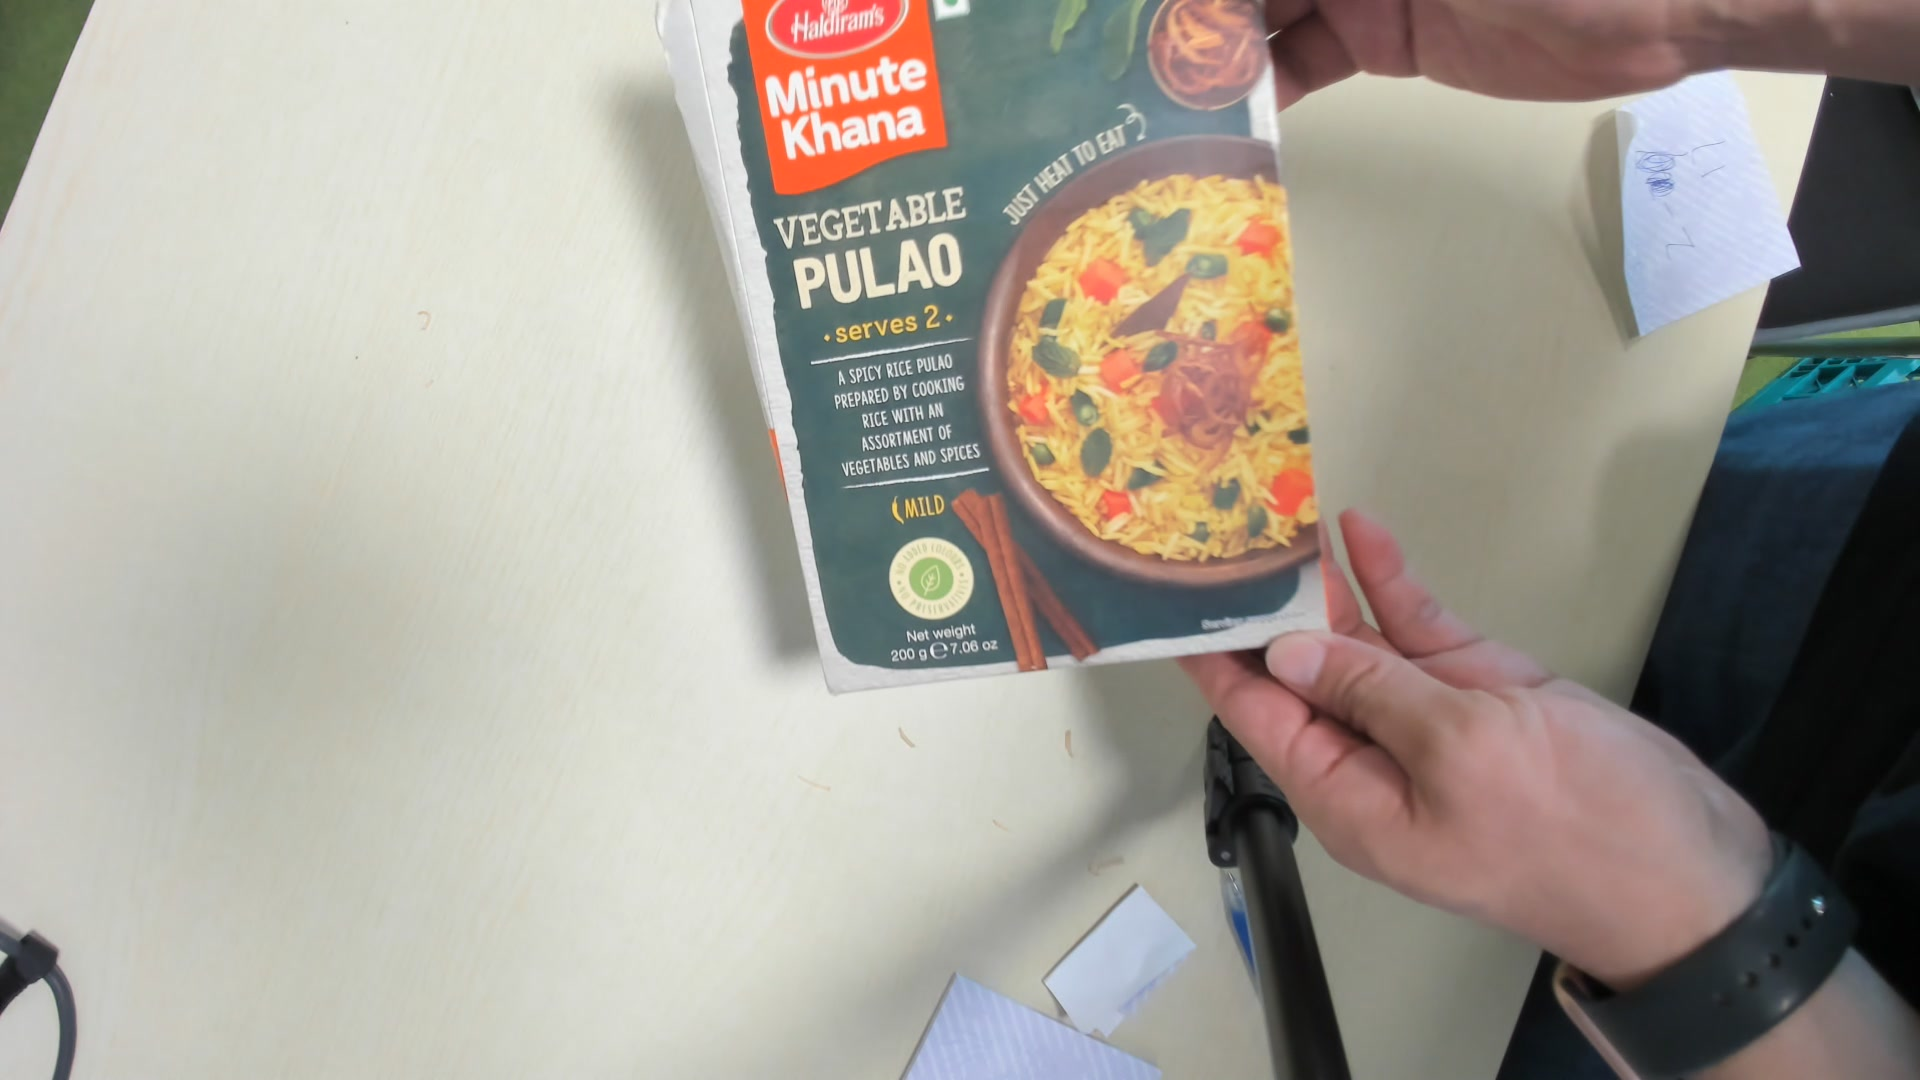InstantMeals_200_299g_NonHalal_NonHealthy: (665, 1, 1331, 688)
